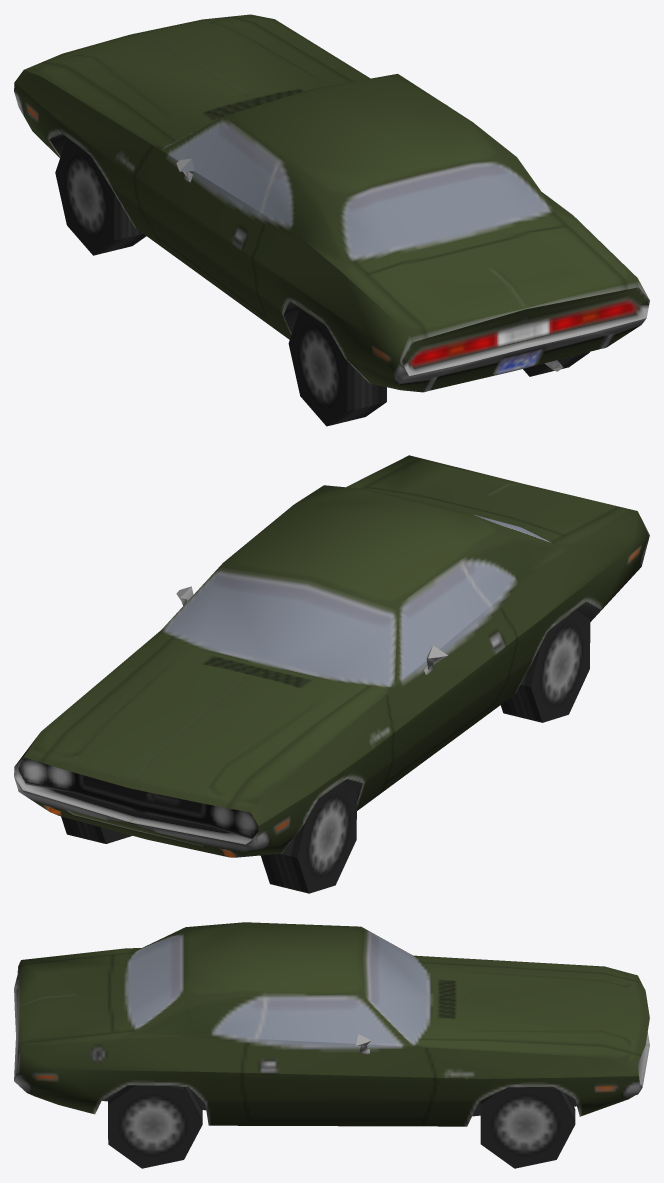
File: fhqDiecast1870Challenger.fbx
The picture shows the model from 3 angles, top to bottom: view 1: azimuth 30°, elevation 25°; view 2: azimuth 150°, elevation 25°; view 3: azimuth 270°, elevation 25°; orthographic projection. The views are drawn at different scales.
Parts seen in each view (by area): view 1: fhqchallenger; view 2: fhqchallenger; view 3: fhqchallenger.
Boxes of the visible parts, bbox=[...] form: fhqchallenger: bbox=[14, 14, 649, 426]; fhqchallenger: bbox=[14, 455, 649, 893]; fhqchallenger: bbox=[14, 922, 649, 1168].
Bounding box in the file's own units: 0.2033 × 0.1532 × 0.5213.
